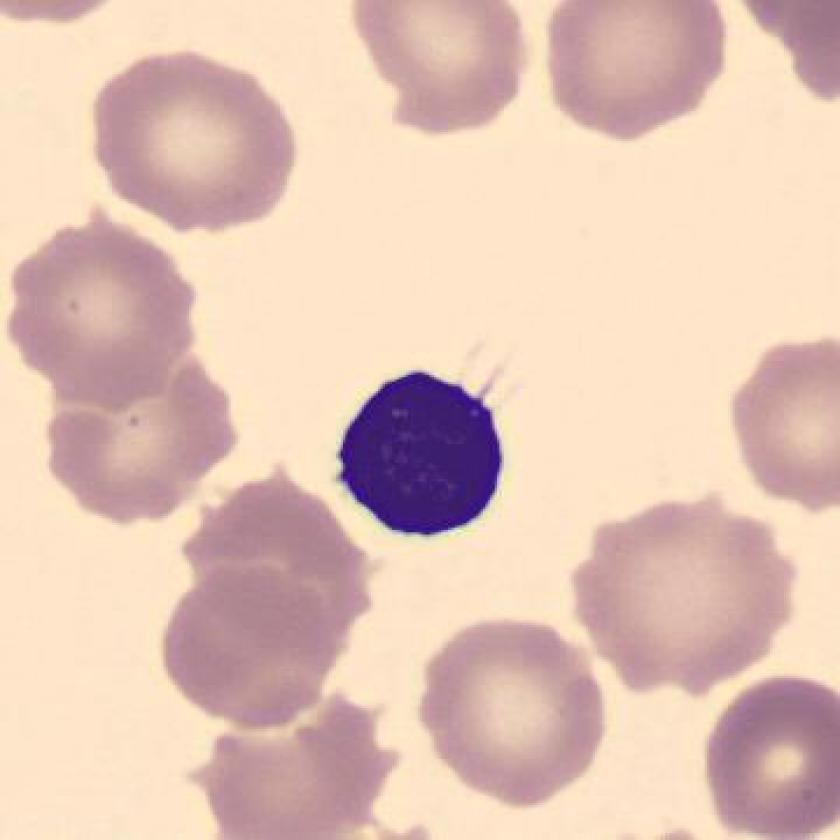lymphocyte: (323, 353, 519, 554)
